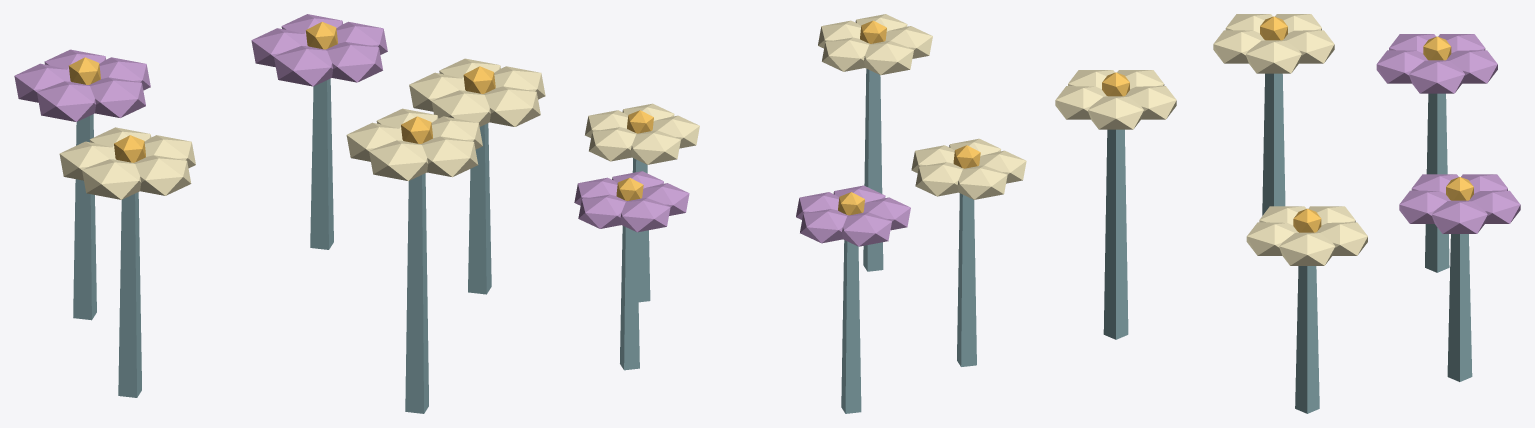
Rendered from enfeite_flores.glb.
3 views of the same model, side by side, from view 1: azimuth 30°, elevation 25°; view 2: azimuth 150°, elevation 25°; view 3: azimuth 270°, elevation 25° (orthographic). The views are drawn at different scales.
Visible parts, largest first — view 1: neve_enfeite_flores; view 2: neve_enfeite_flores; view 3: neve_enfeite_flores.
Boxes of the visible parts, x1,y1,x2,y2 form: neve_enfeite_flores: (14,14,545,413); neve_enfeite_flores: (574,14,1026,413); neve_enfeite_flores: (1055,14,1520,413).
Bounding box in the file's own units: 0.366 × 0.211 × 0.339.
